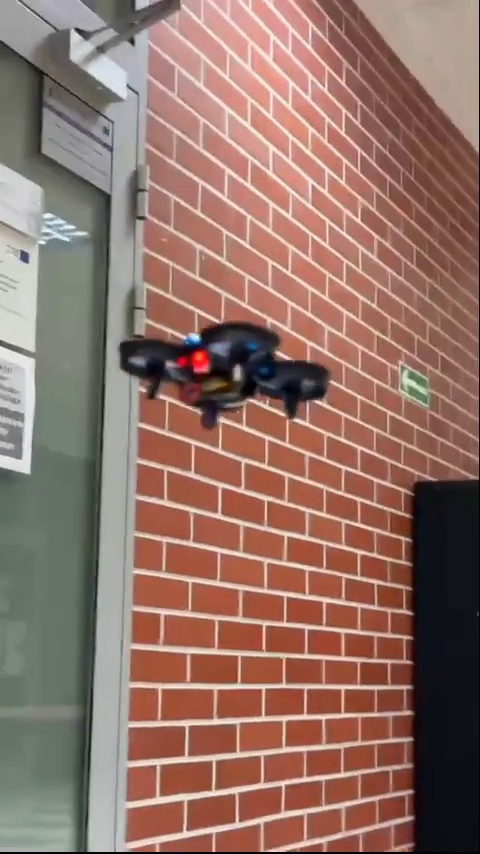drone: (122, 325, 325, 424)
